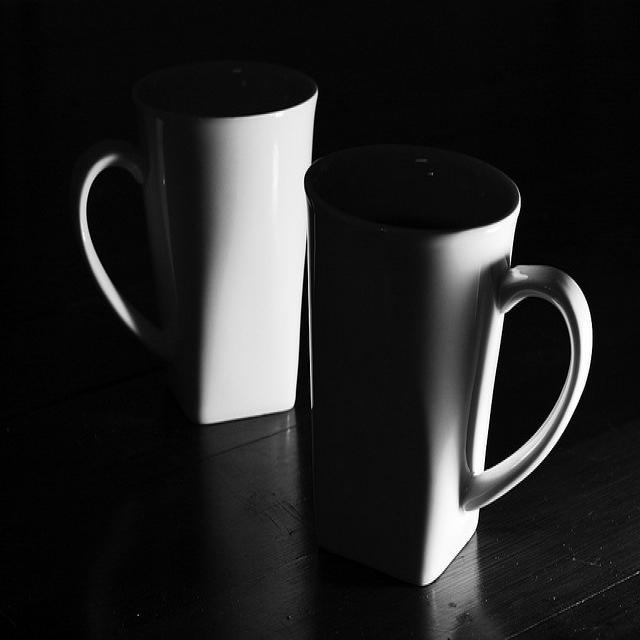Cup: (301, 105, 580, 577), (80, 52, 313, 464)
